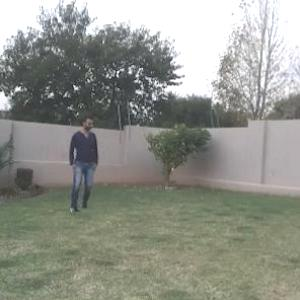follow: (66, 112, 99, 217)
